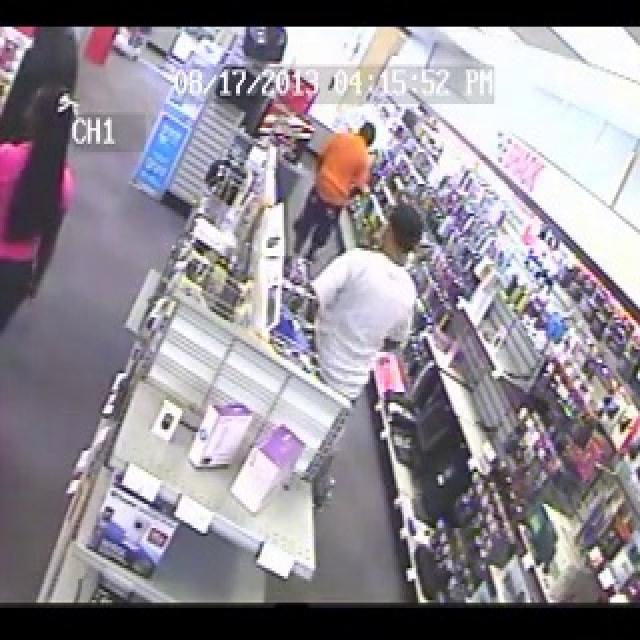normal: (0, 26, 640, 601)
